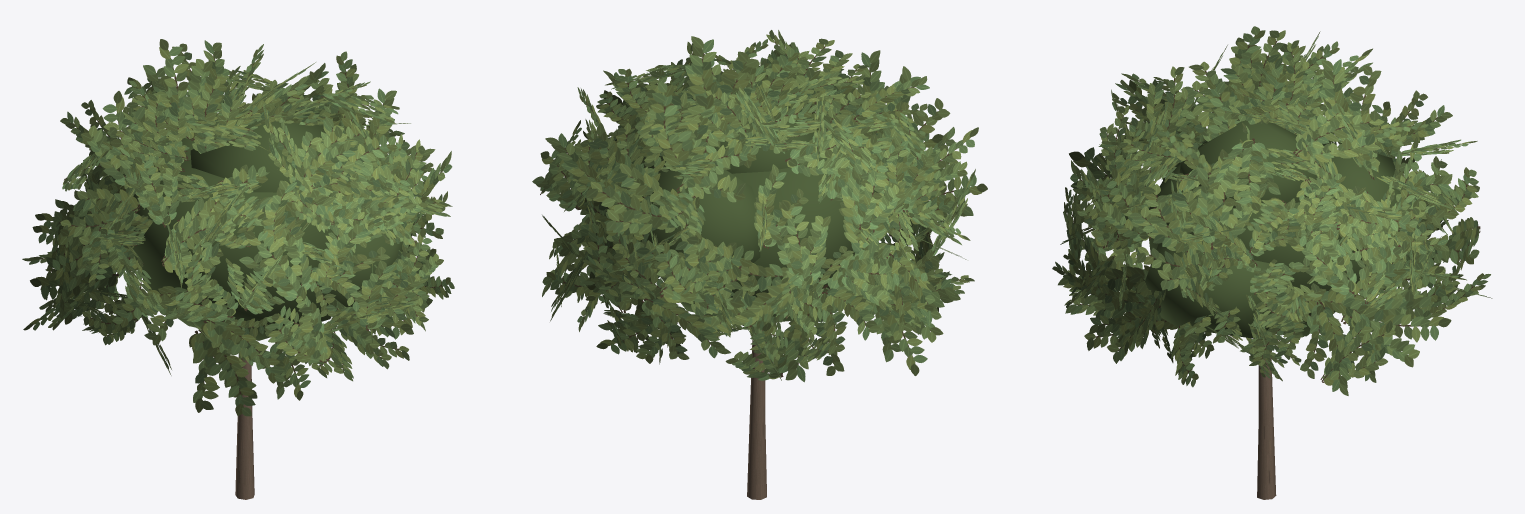
Rendered from PRUNUS_1.glb.
3 views of the same model, side by side, from view 1: azimuth 30°, elevation 25°; view 2: azimuth 150°, elevation 25°; view 3: azimuth 270°, elevation 25° (orthographic). The views are drawn at different scales.
Visible parts, largest first — view 1: Arv_PRUNUS_lod1; view 2: Arv_PRUNUS_lod1; view 3: Arv_PRUNUS_lod1.
Boxes of the visible parts, x1=… form: Arv_PRUNUS_lod1: x1=22, y1=39, x2=454, y2=499; Arv_PRUNUS_lod1: x1=532, y1=30, x2=987, y2=499; Arv_PRUNUS_lod1: x1=1052, y1=26, x2=1492, y2=499.
Size of the model in its own units: 10.74 by 10.98 by 10.6.
3 materials, 2 textured.
